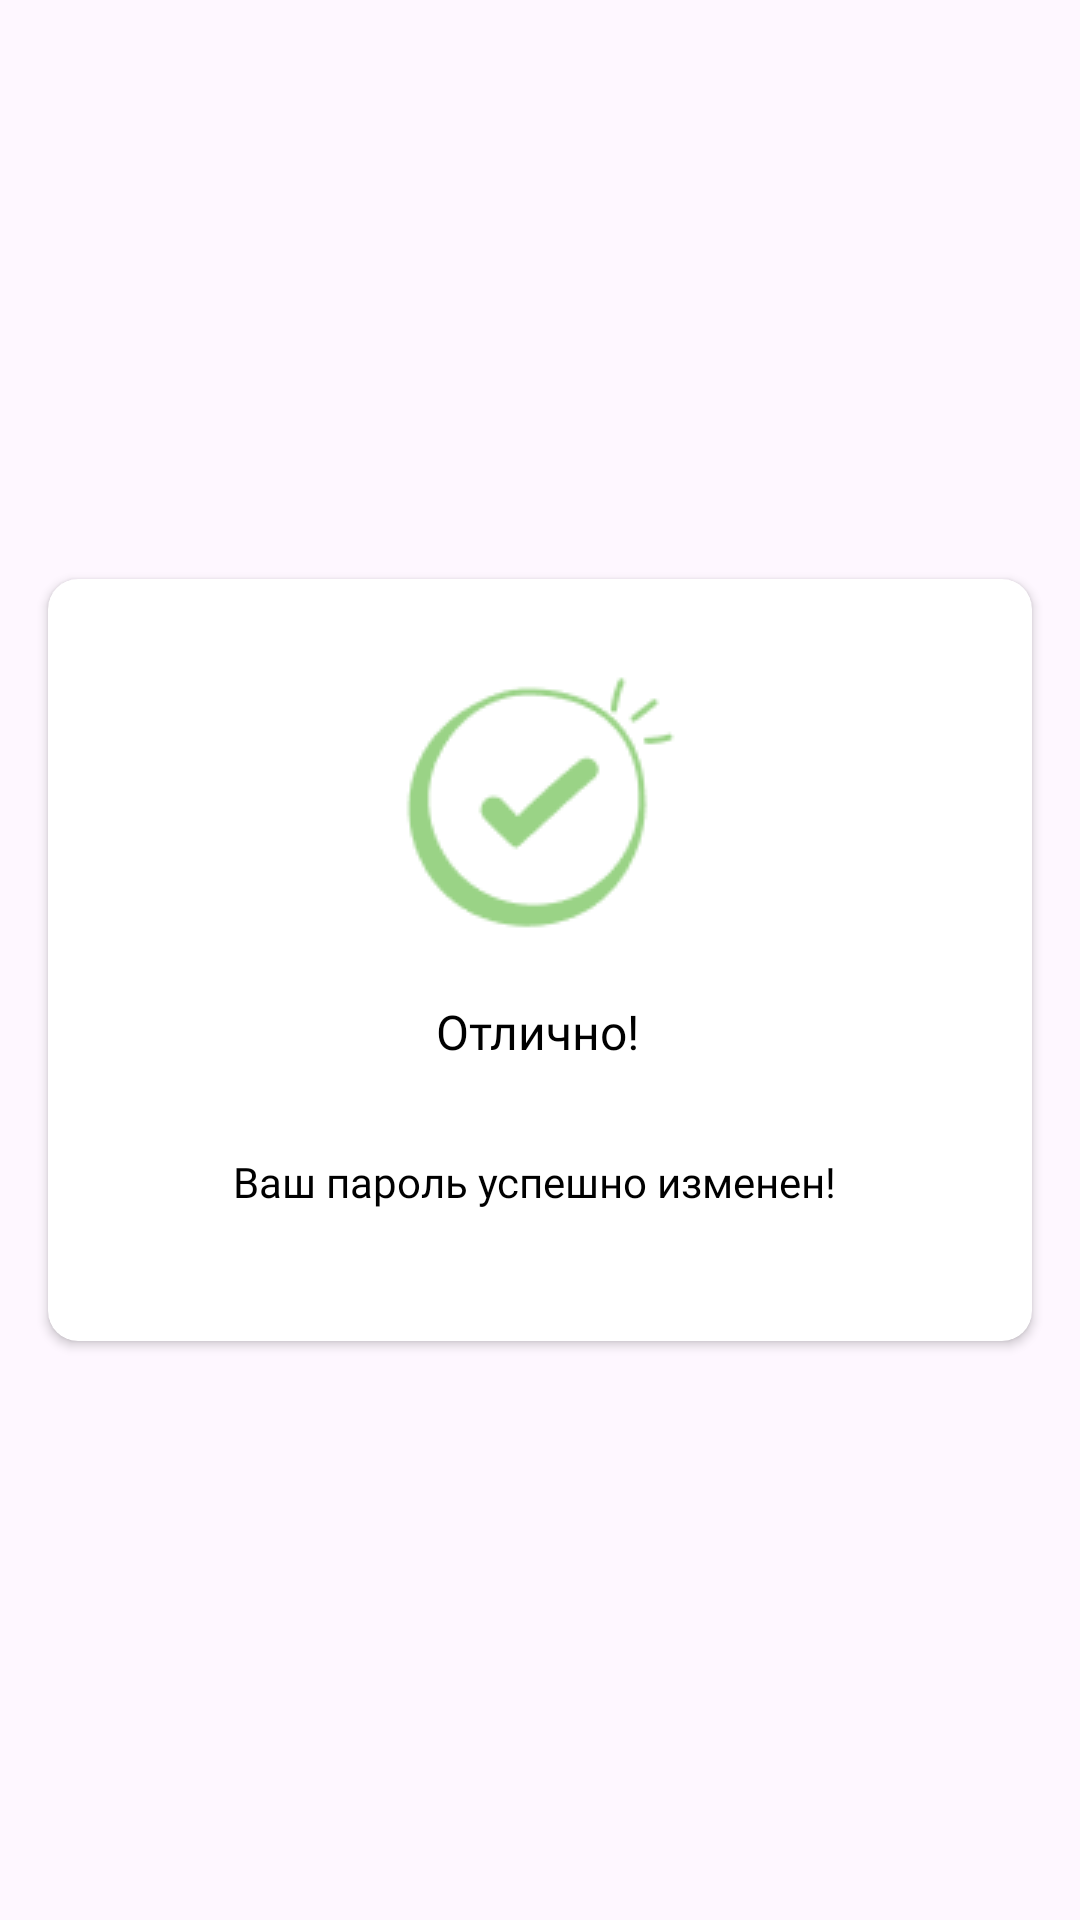

Icons on this 1080px×1920px Android screen, each with its box as box(x1, y1, x2, y2):
noun checkmark: box(407, 677, 674, 928)
